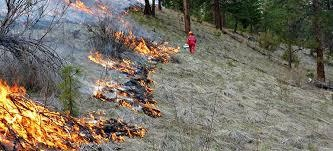fire: (89, 21, 179, 121), (71, 0, 112, 13)
